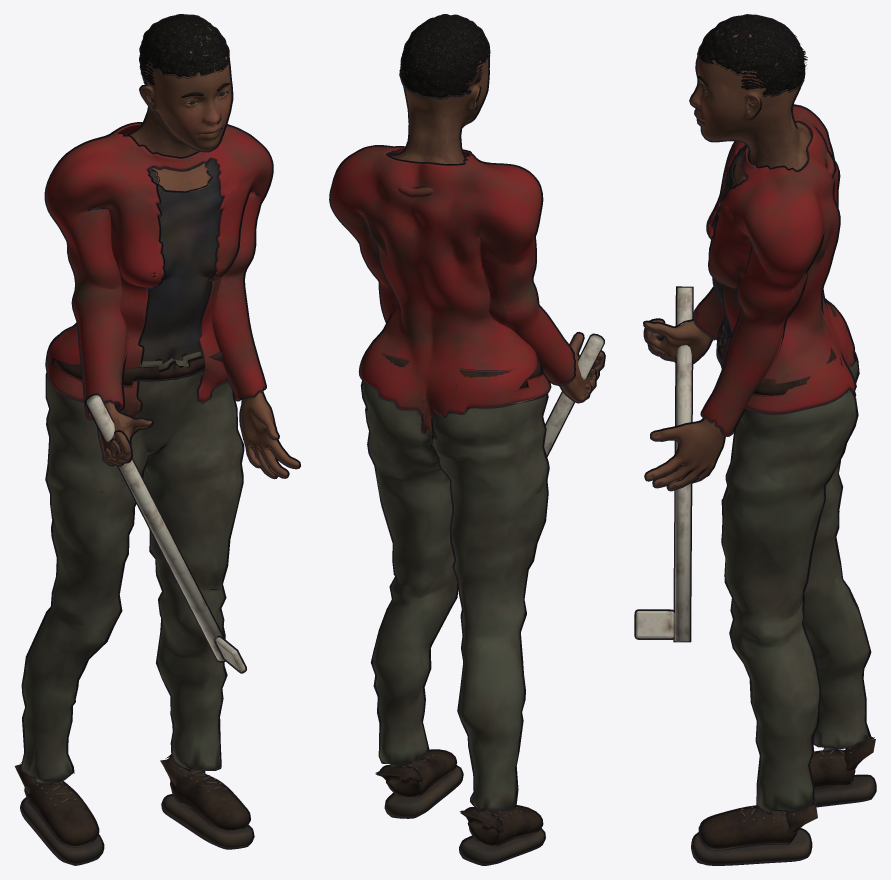
The picture shows the model from 3 angles, left to right: view 1: azimuth 30°, elevation 25°; view 2: azimuth 150°, elevation 25°; view 3: azimuth 270°, elevation 25°; orthographic projection. The views are drawn at different scales.
Visible parts, largest first — view 1: F2 pants, F2 jacket, F2 body, F2 tee, f2 weapon, f2 haircap, F2 jacket hull, F2 pants hull, f2 L shoe, f2 R shoe, F2 body hull, f2 L sole (+4 smaller); view 2: F2 pants, F2 jacket, F2 body, f2 haircap, F2 pants hull, F2 jacket hull, f2 hair, f2 R shoe, f2 L shoe, f2 R sole, f2 L sole, f2 weapon (+2 smaller); view 3: F2 pants, F2 jacket, F2 body, f2 weapon, f2 haircap, f2 L shoe, F2 jacket hull, F2 pants hull, f2 hair, f2 L sole, F2 body hull, f2 R shoe (+5 smaller).
Part boxes in pixels (x1,y1,x2,y2): F2 pants: [22, 351, 242, 783]; F2 jacket: [46, 123, 271, 418]; F2 body: [99, 21, 299, 477]; F2 tee: [140, 160, 221, 362]; f2 weapon: [86, 395, 245, 671]; f2 haircap: [141, 15, 228, 83]; F2 jacket hull: [44, 122, 273, 420]; F2 pants hull: [20, 326, 244, 784]; f2 L shoe: [160, 756, 249, 830]; f2 R shoe: [14, 764, 97, 846]; F2 body hull: [96, 15, 300, 479]; f2 L sole: [163, 795, 252, 847]; F2 pants: [362, 381, 547, 810]; F2 jacket: [330, 146, 574, 433]; F2 body: [391, 32, 604, 401]; f2 haircap: [401, 15, 488, 98]; F2 pants hull: [360, 335, 549, 812]; F2 jacket hull: [329, 145, 576, 435]; f2 hair: [399, 16, 483, 91]; f2 R shoe: [460, 806, 541, 845]; f2 L shoe: [376, 751, 455, 796]; f2 R sole: [460, 829, 544, 864]; f2 L sole: [386, 767, 461, 817]; f2 weapon: [544, 335, 603, 455]; F2 pants: [722, 325, 869, 812]; F2 jacket: [695, 106, 854, 435]; F2 body: [644, 30, 810, 489]; f2 weapon: [636, 287, 692, 641]; f2 haircap: [698, 15, 803, 95]; f2 L shoe: [700, 796, 817, 848]; F2 jacket hull: [693, 104, 856, 436]; F2 pants hull: [720, 302, 871, 814]; f2 hair: [715, 16, 807, 90]; f2 L sole: [692, 829, 810, 864]; F2 body hull: [643, 15, 803, 491]; f2 R shoe: [810, 738, 875, 787].
Bounding box in the file's own units: 0.4942 × 1.69 × 0.4456.
Materials: 22 (18 with a texture image).
